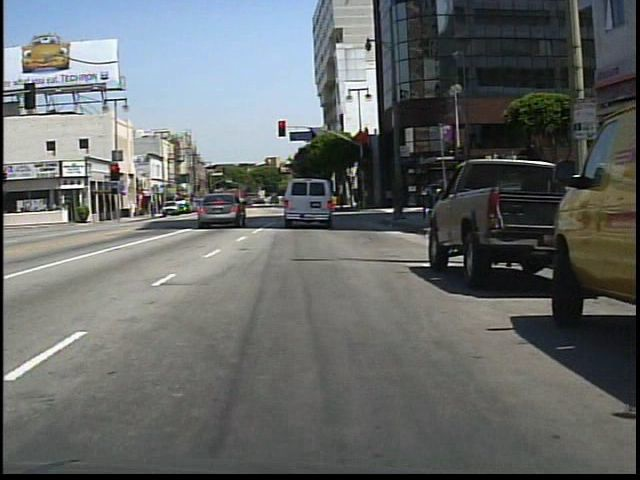person: (307, 183, 329, 222), (228, 193, 250, 218)
